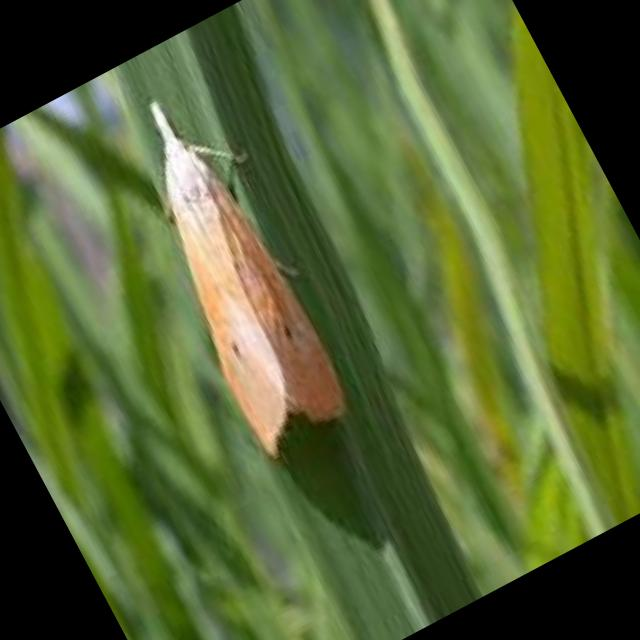stem-borer: (89, 71, 378, 462)
